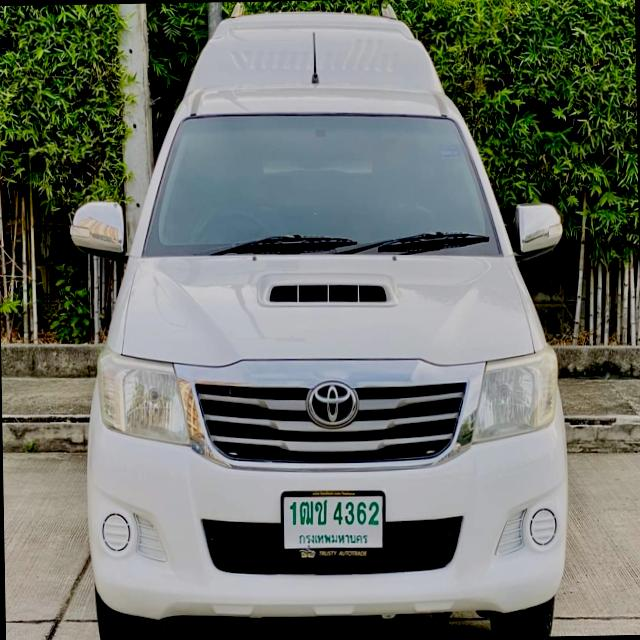license_plate: (277, 484, 388, 561)
